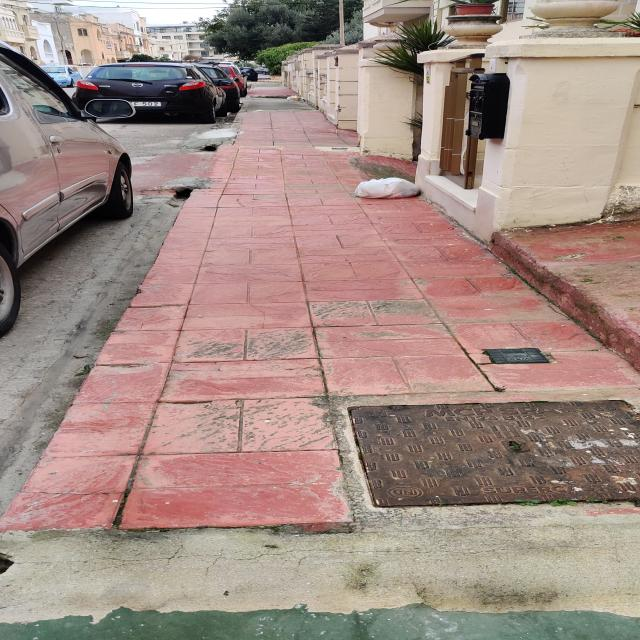Organic Waste -White Bags-: (354, 178, 422, 199), (286, 96, 303, 102)
